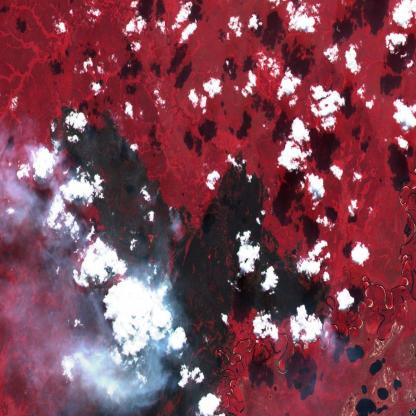fire: (47, 102, 184, 316)
